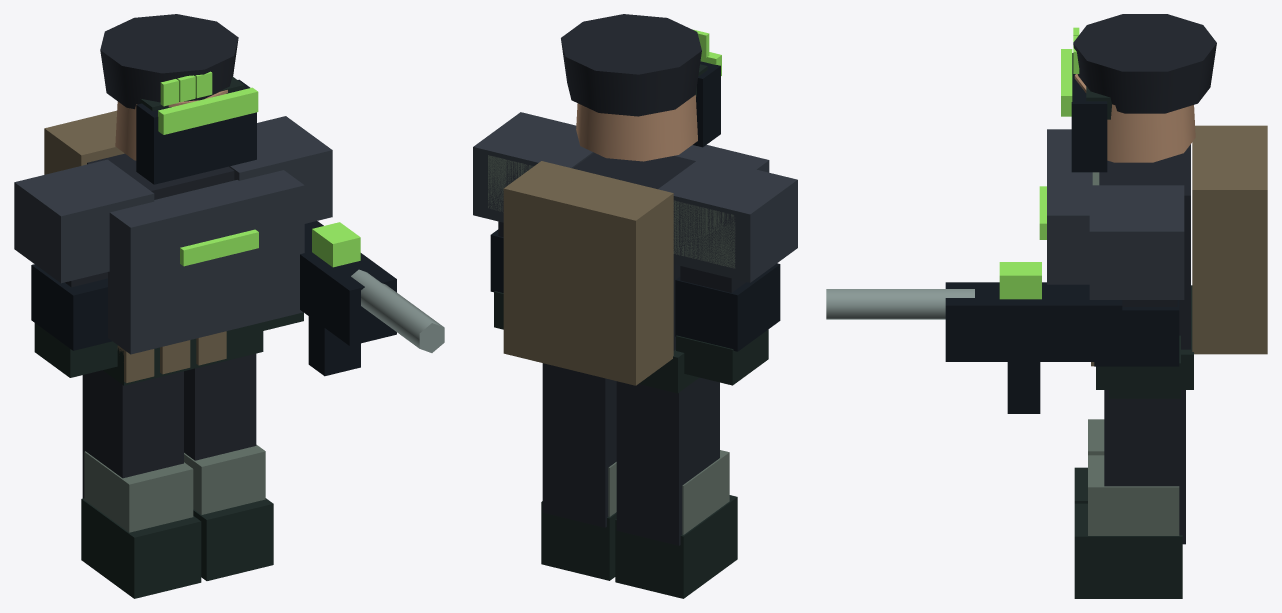
File: sentinel_l03.glb
The picture shows the model from 3 angles, left to right: view 1: azimuth 30°, elevation 25°; view 2: azimuth 150°, elevation 25°; view 3: azimuth 270°, elevation 25°; orthographic projection. The views are drawn at different scales.
Parts seen in each view (by area): view 1: tactical_chest_plate, broad_shoulder_guard (×2), trouser (×2), boot (×2), knee_plate (×2), helmet, full_face_mask, heavy_carbine, forearm_guard, field_pack, heavy_barrel, night_optics (+10 smaller); view 2: field_pack, trouser (×2), broad_shoulder_guard (×2), helmet, boot (×2), forearm_guard (×2), face, shoulder_plate (×2), glove, knee_plate (×2), body, full_face_mask (+3 smaller); view 3: field_pack, heavy_carbine, helmet, broad_shoulder_guard, trouser, boot, tactical_chest_plate, knee_plate (×2), face, heavy_barrel, body, forearm_guard (+6 smaller).
Part boxes in pixels (bbox=[...]): tactical_chest_plate: bbox=[108, 170, 304, 354]; broad_shoulder_guard (×2): bbox=[14, 116, 332, 283]; trouser (×2): bbox=[82, 353, 256, 498]; boot (×2): bbox=[81, 498, 273, 598]; knee_plate (×2): bbox=[84, 444, 265, 532]; helmet: bbox=[100, 14, 238, 109]; full_face_mask: bbox=[136, 79, 256, 184]; heavy_carbine: bbox=[300, 221, 396, 345]; forearm_guard: bbox=[31, 264, 111, 350]; field_pack: bbox=[44, 110, 124, 174]; heavy_barrel: bbox=[351, 269, 444, 352]; night_optics: bbox=[158, 87, 258, 134]; field_pack: bbox=[503, 161, 673, 385]; trouser (×2): bbox=[542, 363, 719, 545]; broad_shoulder_guard (×2): bbox=[473, 112, 797, 282]; helmet: bbox=[561, 14, 701, 116]; boot (×2): bbox=[541, 495, 737, 598]; forearm_guard (×2): bbox=[490, 229, 780, 351]; face: bbox=[576, 95, 697, 161]; shoulder_plate (×2): bbox=[488, 155, 735, 268]; glove: bbox=[676, 329, 768, 385]; knee_plate (×2): bbox=[608, 450, 729, 534]; body: bbox=[573, 152, 695, 350]; full_face_mask: bbox=[693, 61, 720, 147]; field_pack: bbox=[1192, 125, 1267, 354]; heavy_carbine: bbox=[945, 282, 1122, 361]; helmet: bbox=[1073, 14, 1216, 113]; broad_shoulder_guard: bbox=[1089, 185, 1184, 299]; trouser: bbox=[1104, 390, 1185, 544]; boot: bbox=[1074, 503, 1182, 598]; tactical_chest_plate: bbox=[1047, 129, 1092, 284]; knee_plate (×2): bbox=[1088, 419, 1179, 535]; face: bbox=[1074, 74, 1195, 162]; heavy_barrel: bbox=[826, 289, 974, 319]; body: bbox=[1099, 144, 1190, 349]; forearm_guard: bbox=[1094, 300, 1179, 366].
Size of the model in its own units: 0.975 by 1.76 by 1.35.
